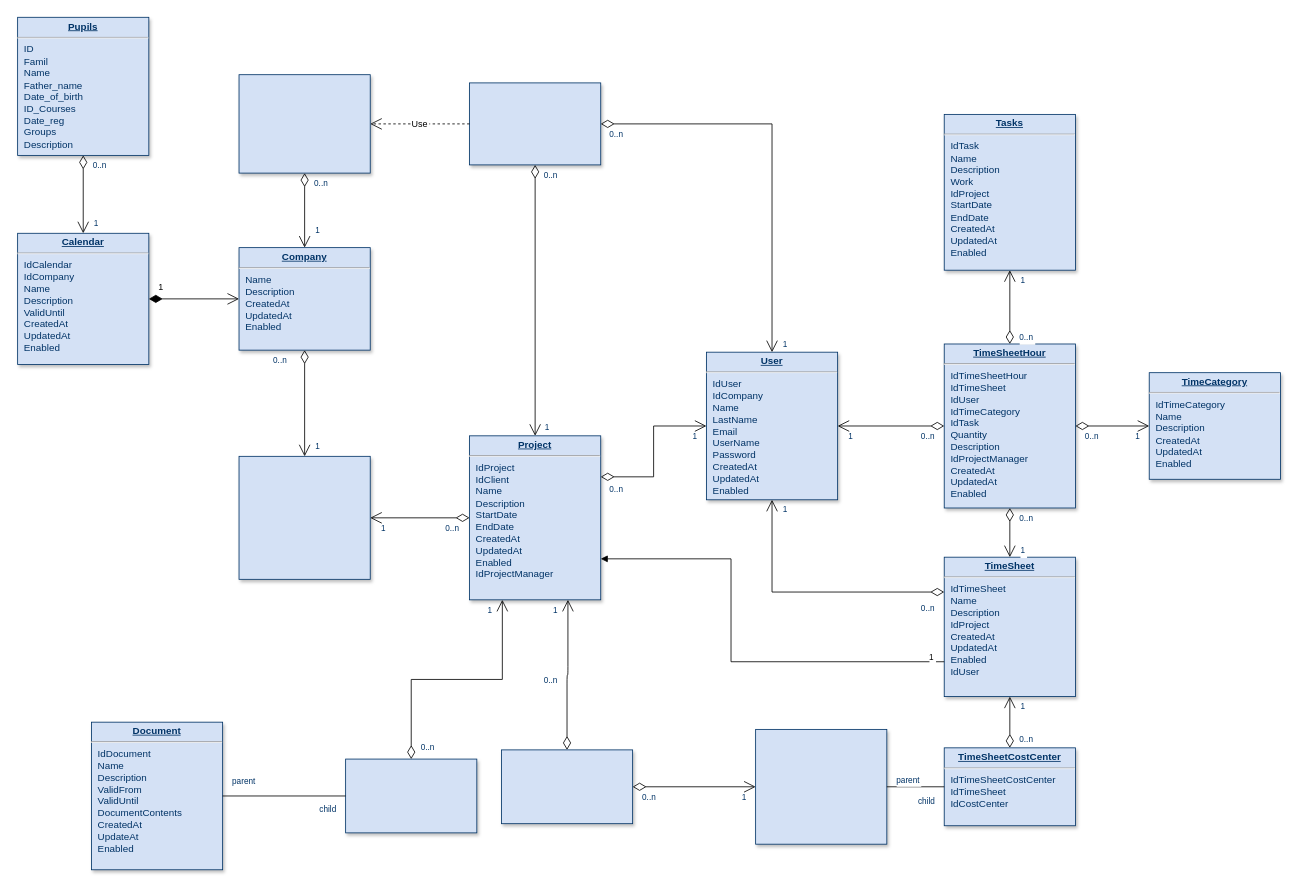
Some shapes in this 1300 by 891 pixel diagram are drawn without their labels. The shapes that lost their labels are listed below. From the top down, each one's centre as x and y in pixels, then its label:
the point at 305,125: Role IdCompany Name Description CreatedAt UpdatedAt Enabled
the point at 535,125: UserProjectRole IdUserProjectRole IdRole IdProject IdUser
the point at 305,518: Client IdClient IdCompany Name Description CreatedAt UpdatedAt Enabled
the point at 412,797: ProjectDocument IdProjectDocument IdProject IdDocument
the point at 567,787: ProjectCostCenter IdProjectCostCenter IdProject IdCostCenter
the point at 822,787: CostCenter IdCostCenter Name Description CreatedAt UpdatedAt Enabled
